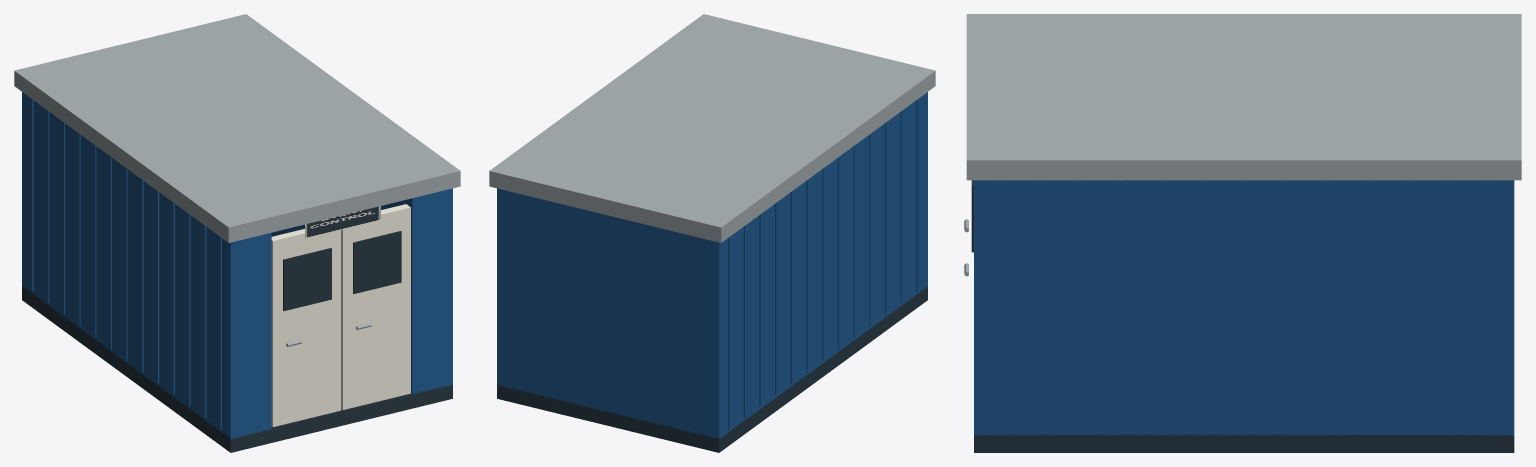
File: scendance-plan-event-control.glb
3 renders of one model, left to right at view 1: azimuth 30°, elevation 25°; view 2: azimuth 150°, elevation 25°; view 3: azimuth 270°, elevation 25°, orthographic. The views are drawn at different scales.
Size of the model in its own units: 2.66 by 2.51 by 4.28.
5 materials, 1 textured.
